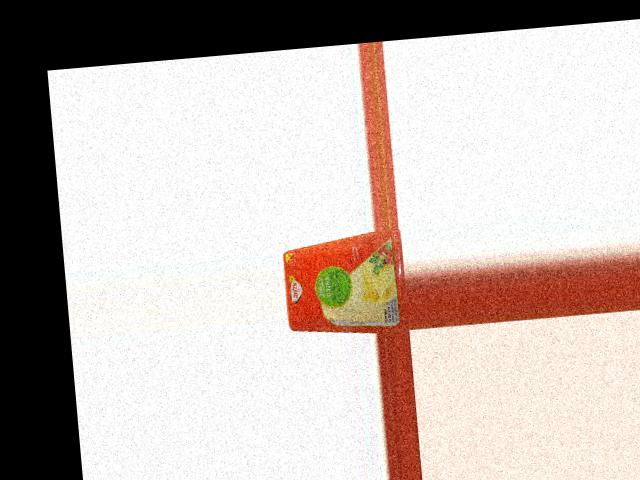cheese: (281, 228, 409, 338)
